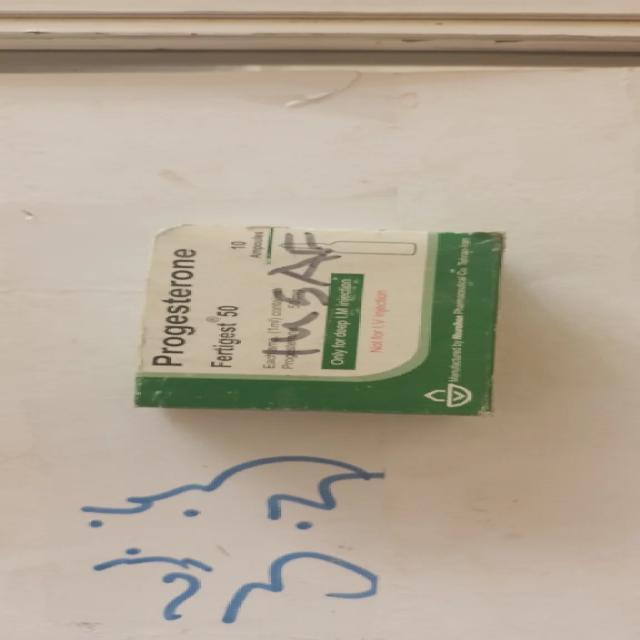drug-name: (145, 247, 209, 370)
